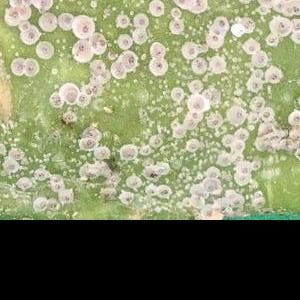Femea: (271, 17, 290, 34), (73, 20, 92, 36), (228, 106, 244, 124), (180, 41, 197, 57), (19, 28, 39, 41), (210, 25, 223, 45), (131, 27, 147, 42), (122, 51, 136, 68), (189, 95, 204, 110), (57, 13, 73, 27), (149, 58, 164, 72), (213, 15, 227, 30), (244, 38, 258, 53), (37, 42, 51, 56), (251, 95, 263, 109), (131, 16, 146, 27), (115, 15, 129, 26), (265, 34, 277, 46), (263, 108, 275, 120), (119, 36, 132, 47), (171, 21, 184, 32), (18, 20, 30, 31), (249, 111, 260, 122)
